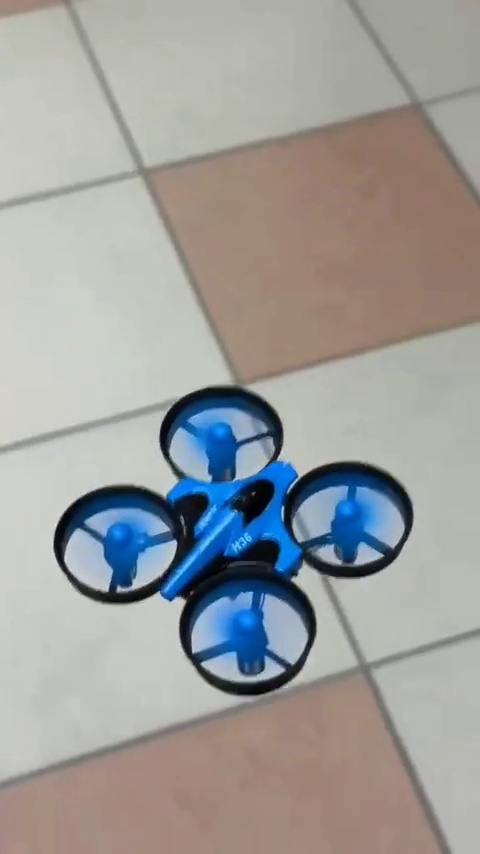drone: (56, 388, 409, 694)
